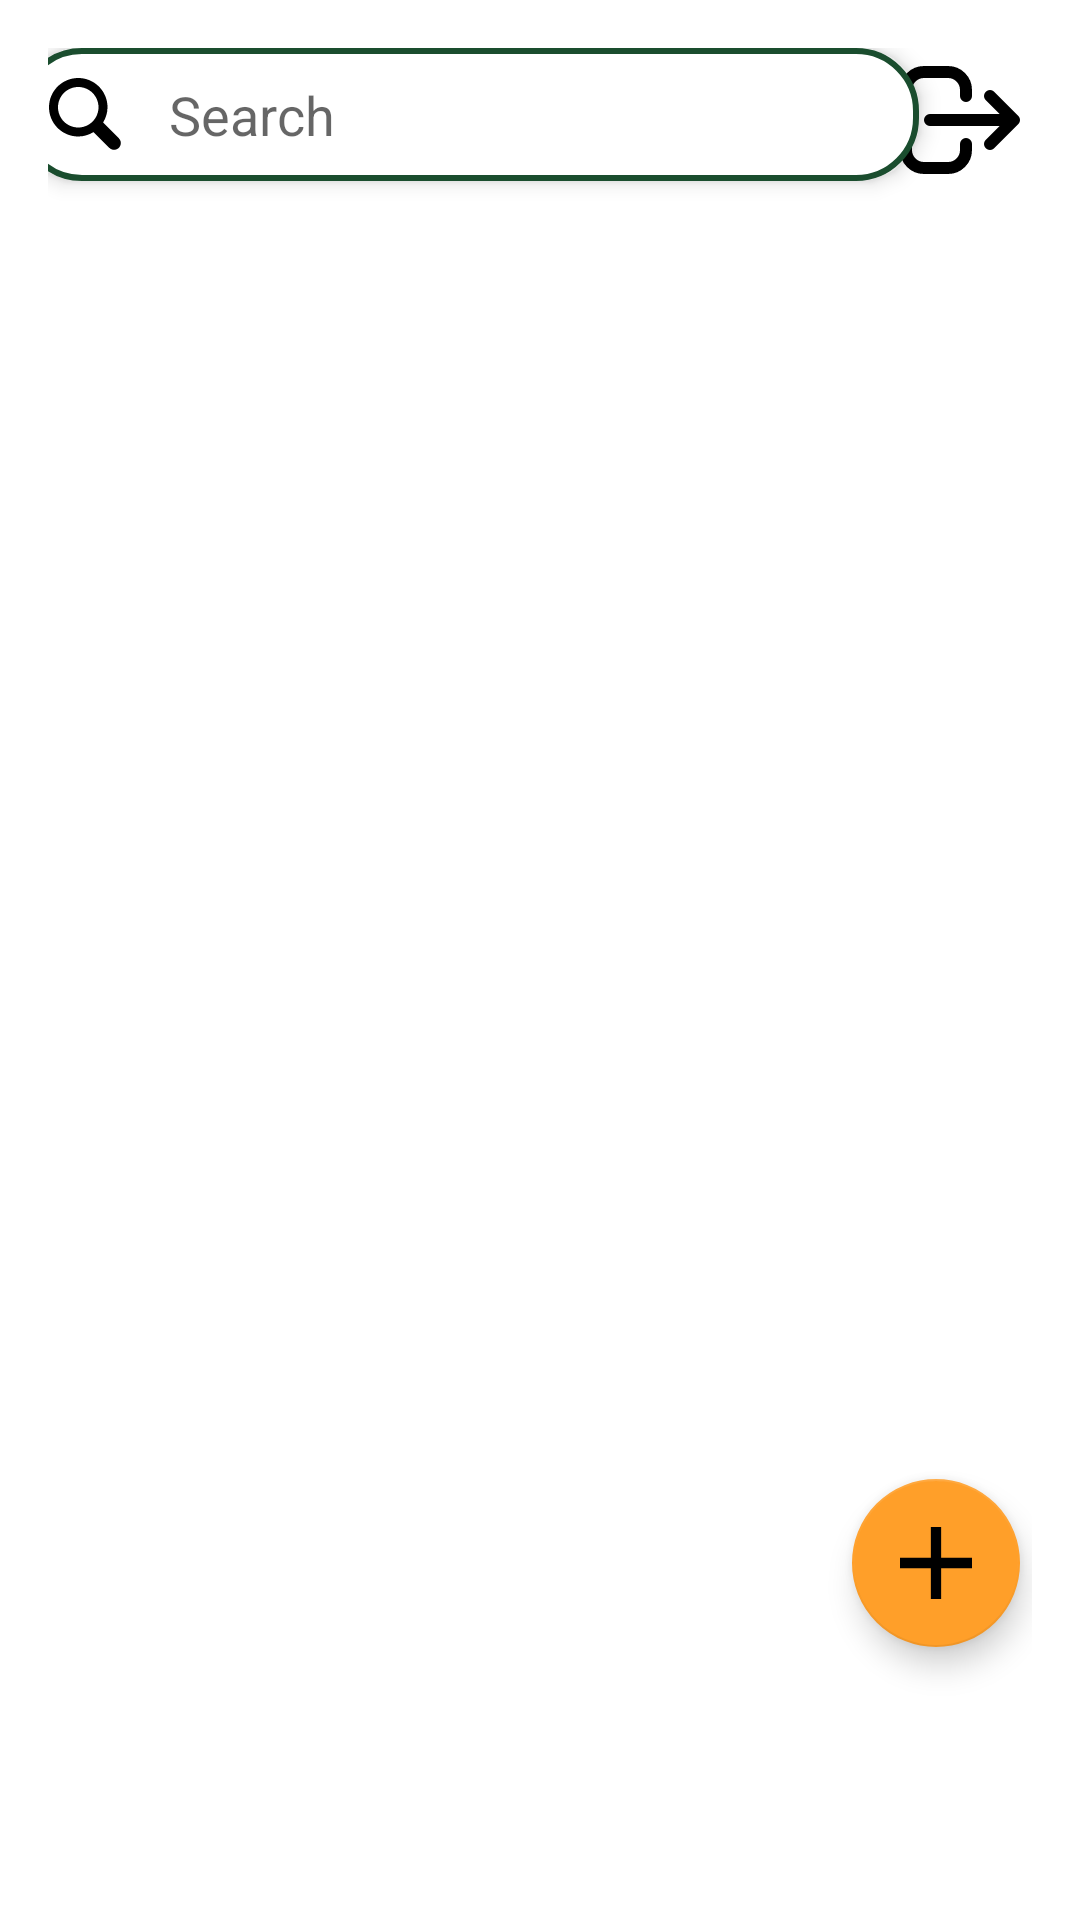

Screen size 1080px×1920px. Icon name, then its box in pixels as (x1, y1, x2, y2):
plus: (852, 1479, 1020, 1647)
